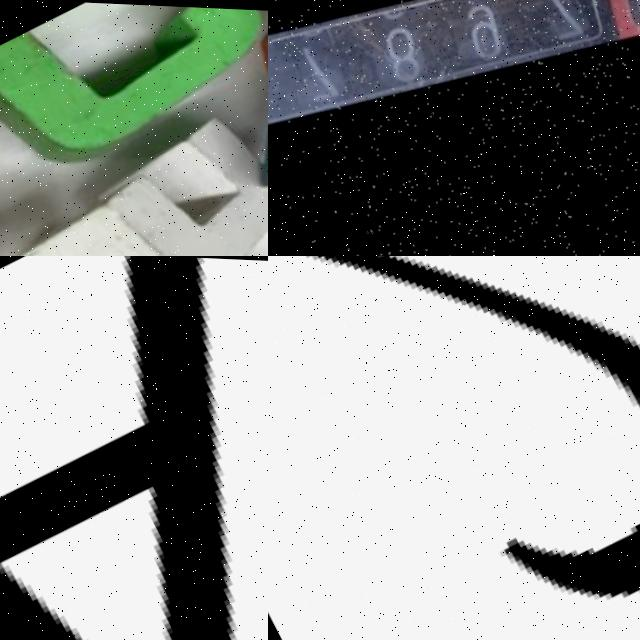0: (268, 56, 275, 126)
2: (268, 256, 640, 640)
7: (282, 30, 358, 115), (525, 0, 602, 51)
8: (367, 15, 438, 93)
9: (448, 0, 521, 74)
A: (0, 256, 268, 640)
C: (0, 0, 268, 209)
H: (0, 75, 268, 256)
